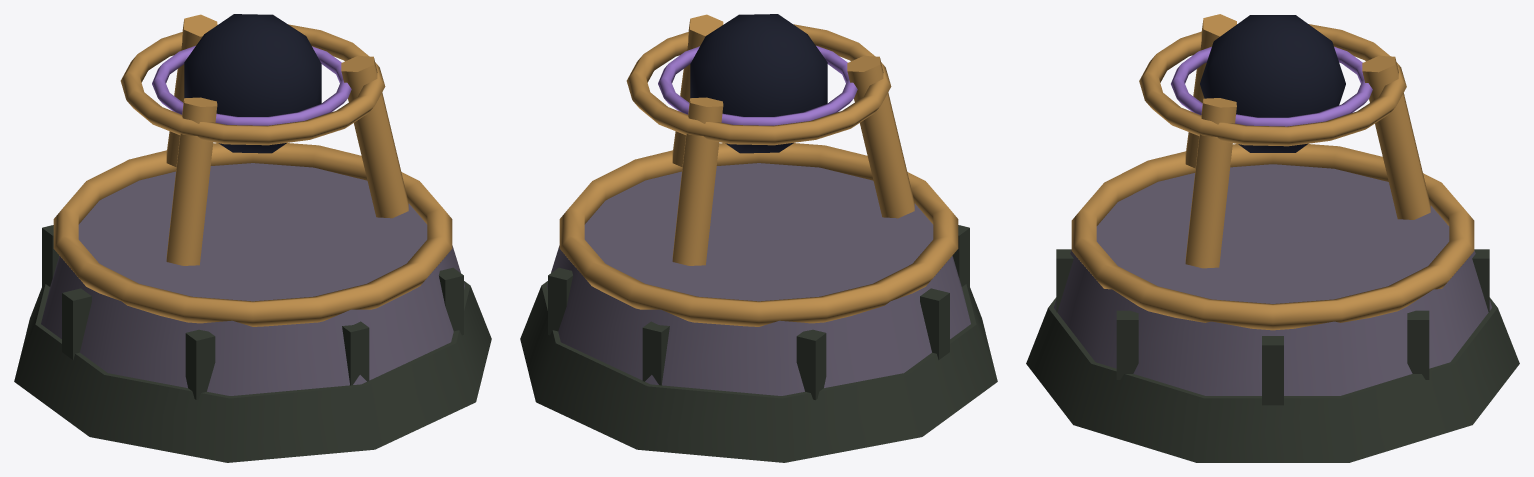
The model's file is tower_gravity_gravityWell.glb.
3 views of the same model, side by side, from view 1: azimuth 30°, elevation 25°; view 2: azimuth 150°, elevation 25°; view 3: azimuth 270°, elevation 25° (orthographic).
Parts seen in each view (by area): view 1: stone_1, foot_0, rim_2, black_hole_11, orbit_16, claw_14, claw_13, accretion_15, mortar_6, mortar_7, claw_12, mortar_5 (+2 smaller); view 2: stone_1, foot_0, rim_2, black_hole_11, orbit_16, claw_12, claw_14, accretion_15, mortar_8, mortar_7, claw_13, mortar_9 (+2 smaller); view 3: stone_1, foot_0, rim_2, black_hole_11, orbit_16, claw_13, claw_12, accretion_15, mortar_3, mortar_4, mortar_10, claw_14 (+2 smaller).
Part boxes in pixels (x1,y1,x2,y2): stone_1: (41,163,464,395); foot_0: (14,281,491,462); rim_2: (53,143,452,326); black_hole_11: (184,14,321,153); orbit_16: (120,24,385,145); claw_14: (166,97,217,265); claw_13: (341,56,408,218); accretion_15: (152,45,351,125); mortar_6: (185,329,215,399); mortar_7: (62,288,91,359); claw_12: (166,14,217,166); mortar_5: (342,321,369,385); stone_1: (547,163,970,395); foot_0: (520,281,997,462); rim_2: (559,143,958,326); black_hole_11: (690,14,827,153); orbit_16: (626,24,891,145); claw_12: (672,97,723,265); claw_14: (847,56,914,218); accretion_15: (658,45,857,125); mortar_8: (796,329,826,399); mortar_7: (920,288,949,359); claw_13: (672,14,723,166); mortar_9: (642,321,669,385); stone_1: (1054,164,1491,395); foot_0: (1026,297,1519,462); rim_2: (1071,144,1474,330); black_hole_11: (1200,15,1345,152); orbit_16: (1139,24,1406,146); claw_13: (1185,98,1236,268); claw_12: (1362,56,1430,219); accretion_15: (1171,46,1372,126); mortar_3: (1262,336,1283,405); mortar_4: (1116,310,1138,379); mortar_10: (1407,310,1429,379); claw_14: (1185,14,1236,168).
Bounding box in the file's own units: 0.5326 × 0.433 × 0.56.
